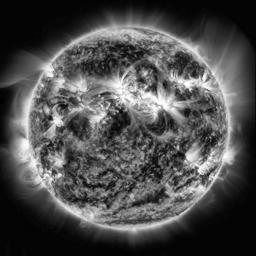solar flares: (110, 81, 138, 107), (63, 76, 89, 96), (179, 80, 216, 94), (85, 110, 110, 128), (148, 96, 170, 113), (44, 116, 66, 132), (184, 151, 199, 167), (57, 76, 61, 97)
sunspots: (104, 39, 141, 61), (81, 60, 126, 78), (174, 52, 204, 77), (155, 117, 179, 140), (149, 152, 170, 178), (142, 66, 162, 93), (142, 188, 167, 207), (201, 129, 221, 149), (190, 104, 218, 118), (65, 118, 86, 136), (109, 112, 123, 137), (83, 179, 108, 190)
